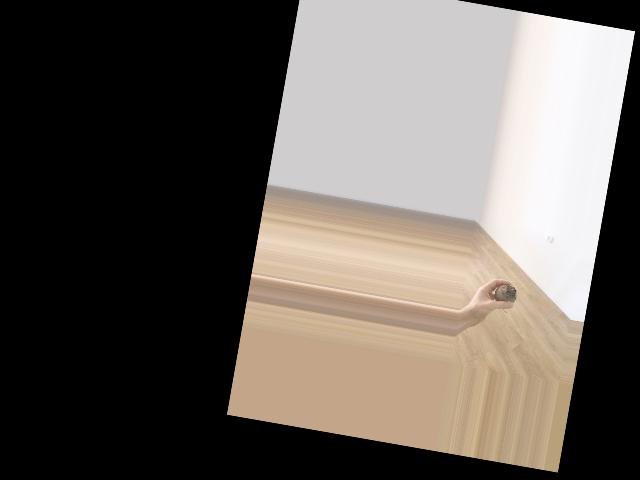beet: (492, 282, 518, 314)
